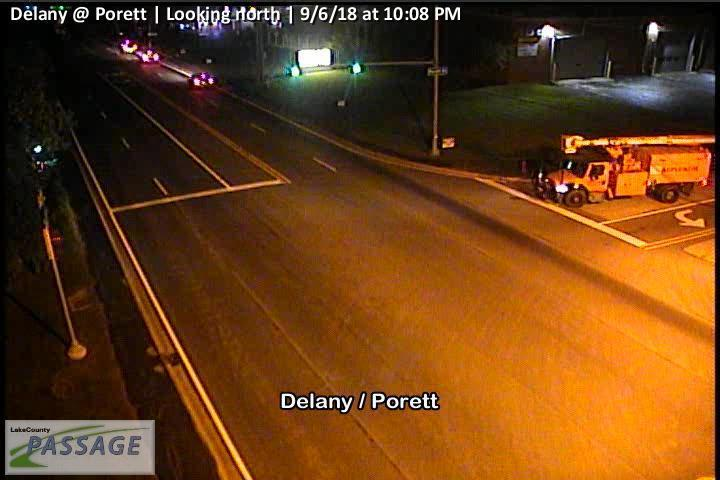Sedan: (185, 71, 214, 86)
Truck: (535, 130, 716, 208)
